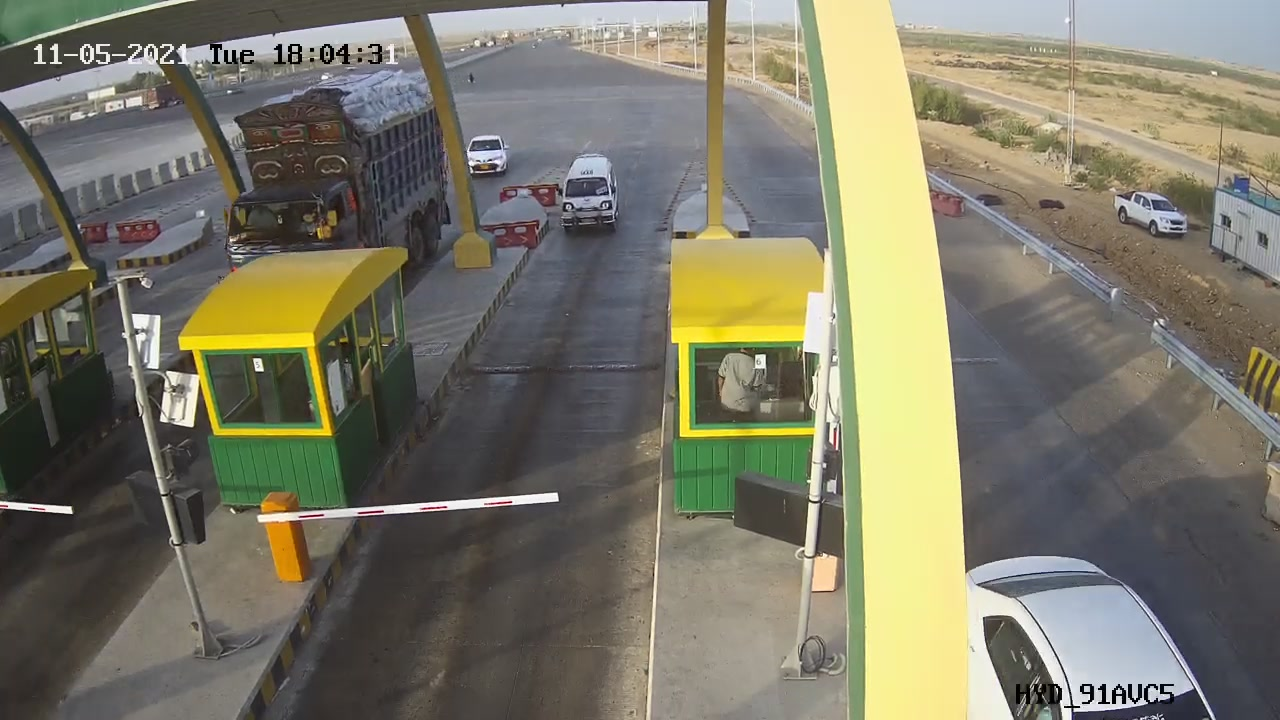F1: (543, 147, 638, 243)
